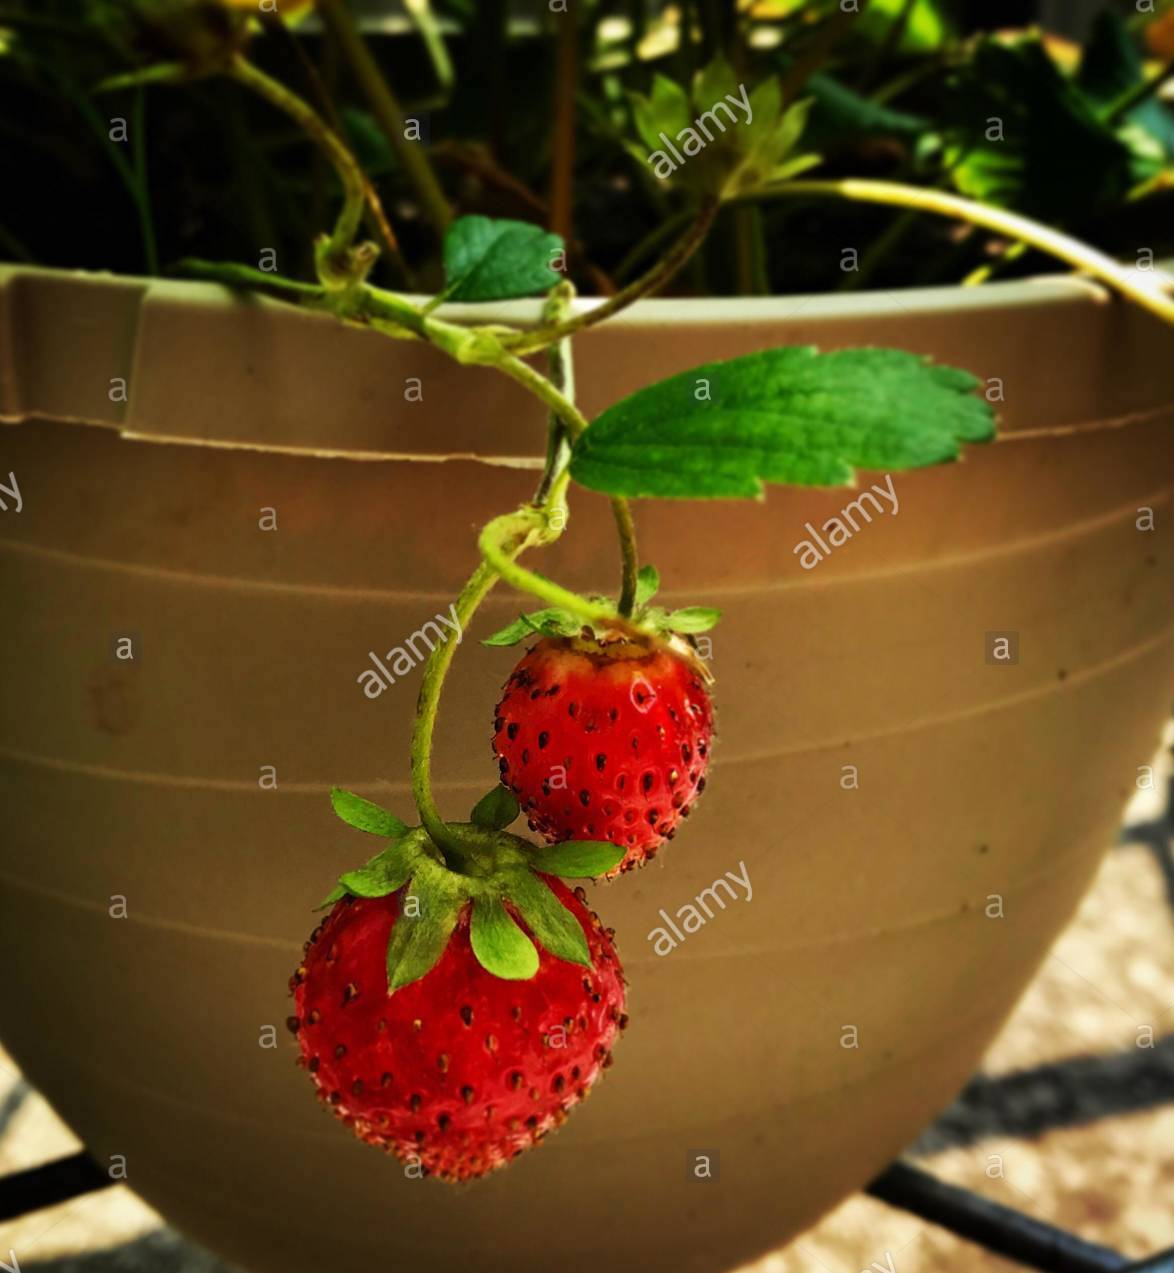ripe_strawberry: (280, 819, 636, 1200), (486, 589, 728, 884)
